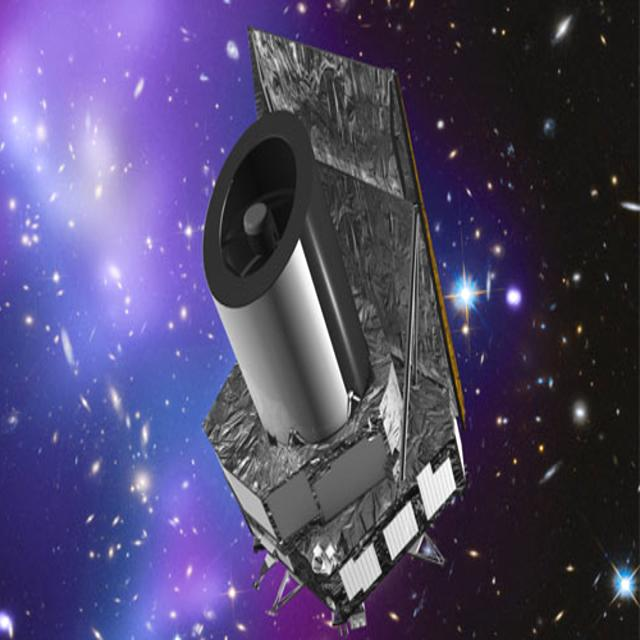medium_debris: (196, 21, 476, 638)
